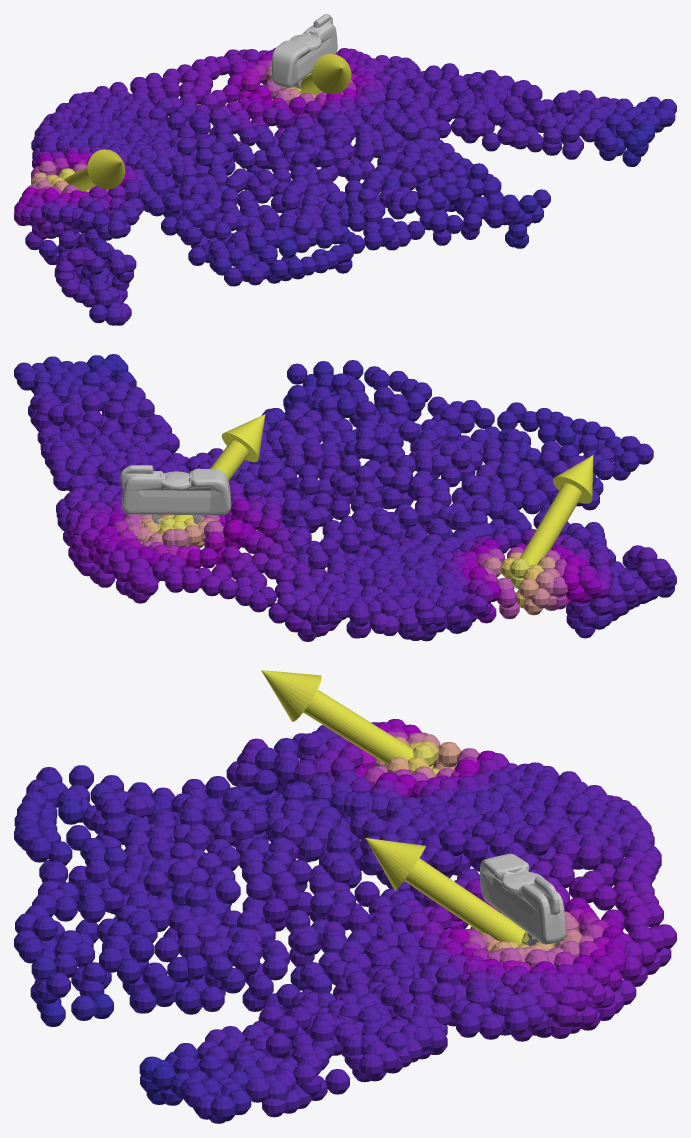
File: pred_hand_0.glb
3 renders of one model, top to bottom at view 1: azimuth 30°, elevation 25°; view 2: azimuth 150°, elevation 25°; view 3: azimuth 270°, elevation 25°, orthographic. The views are drawn at different scales.
Visible parts, largest first — view 1: world, geometry_09a62b62133a6, geometry_148a0648342a8; view 2: world, geometry_09a62b62133a6, geometry_148a0648342a8; view 3: world, geometry_148a0648342a8, geometry_09a62b62133a6.
Boxes of the visible parts, x1,y1,x2,y2 form: world: (14,14,676,325); geometry_09a62b62133a6: (64,149,125,191); geometry_148a0648342a8: (300,54,351,94); world: (14,354,676,641); geometry_09a62b62133a6: (519,455,593,565); geometry_148a0648342a8: (172,414,265,521); world: (14,719,676,1123); geometry_148a0648342a8: (365,838,525,944); geometry_09a62b62133a6: (261,670,413,763).
Bounding box in the file's own units: 1.45 × 0.3367 × 1.02.
